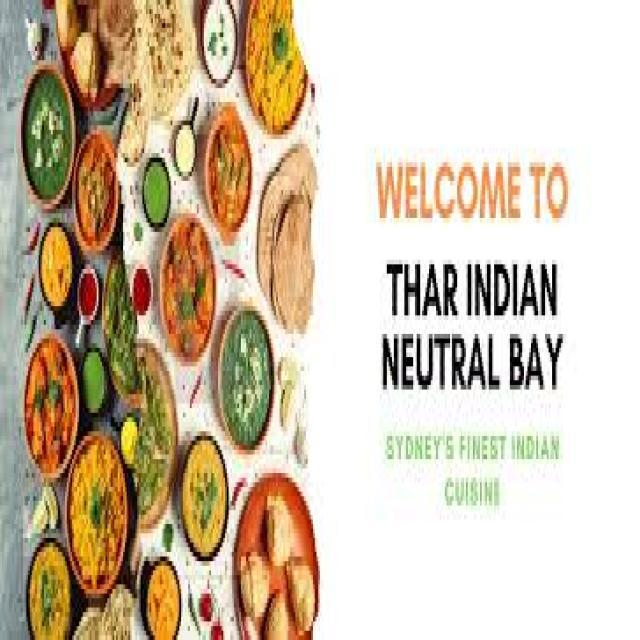raita: (195, 0, 243, 94)
roti: (113, 3, 198, 155)
sweet: (201, 95, 256, 250), (127, 258, 158, 320)
veg-fry: (234, 0, 315, 149), (12, 332, 85, 491), (154, 215, 222, 363)
